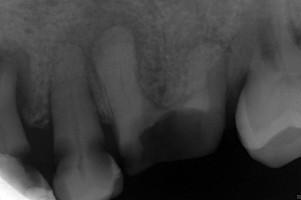Endo-Periodontal Lesion: (254, 16, 276, 61)
Furcation Involvement: (47, 0, 151, 103), (0, 39, 32, 122)
